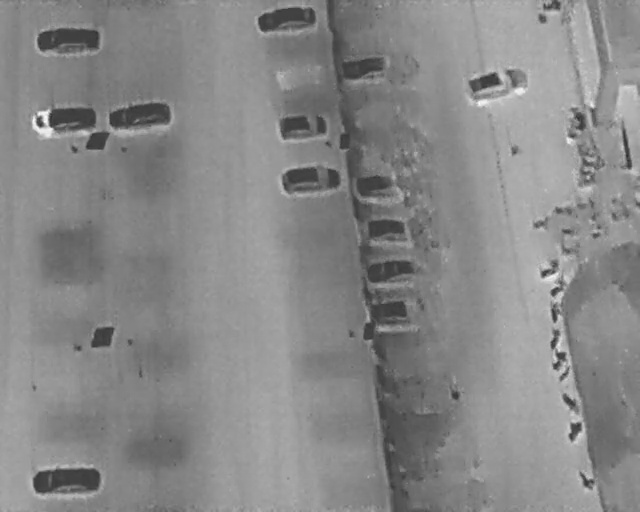Car: (464, 62, 531, 109), (30, 102, 98, 139), (279, 160, 342, 197), (105, 98, 172, 131), (255, 2, 317, 36), (31, 466, 101, 496), (367, 297, 428, 329), (35, 26, 101, 55), (340, 51, 395, 84), (276, 112, 328, 140), (353, 174, 408, 200), (367, 260, 423, 282), (366, 218, 411, 242)
